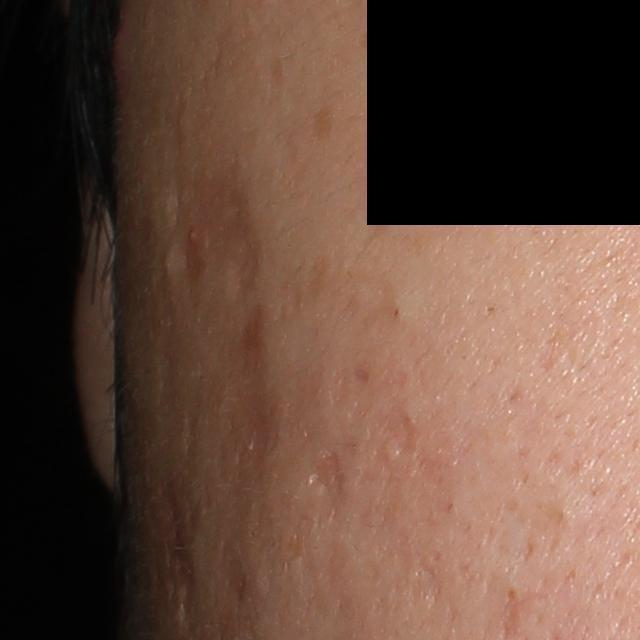atrophic_scar: (192, 165, 265, 305), (152, 489, 207, 630), (361, 399, 421, 490), (308, 447, 347, 496)
melasma: (309, 102, 338, 143)
